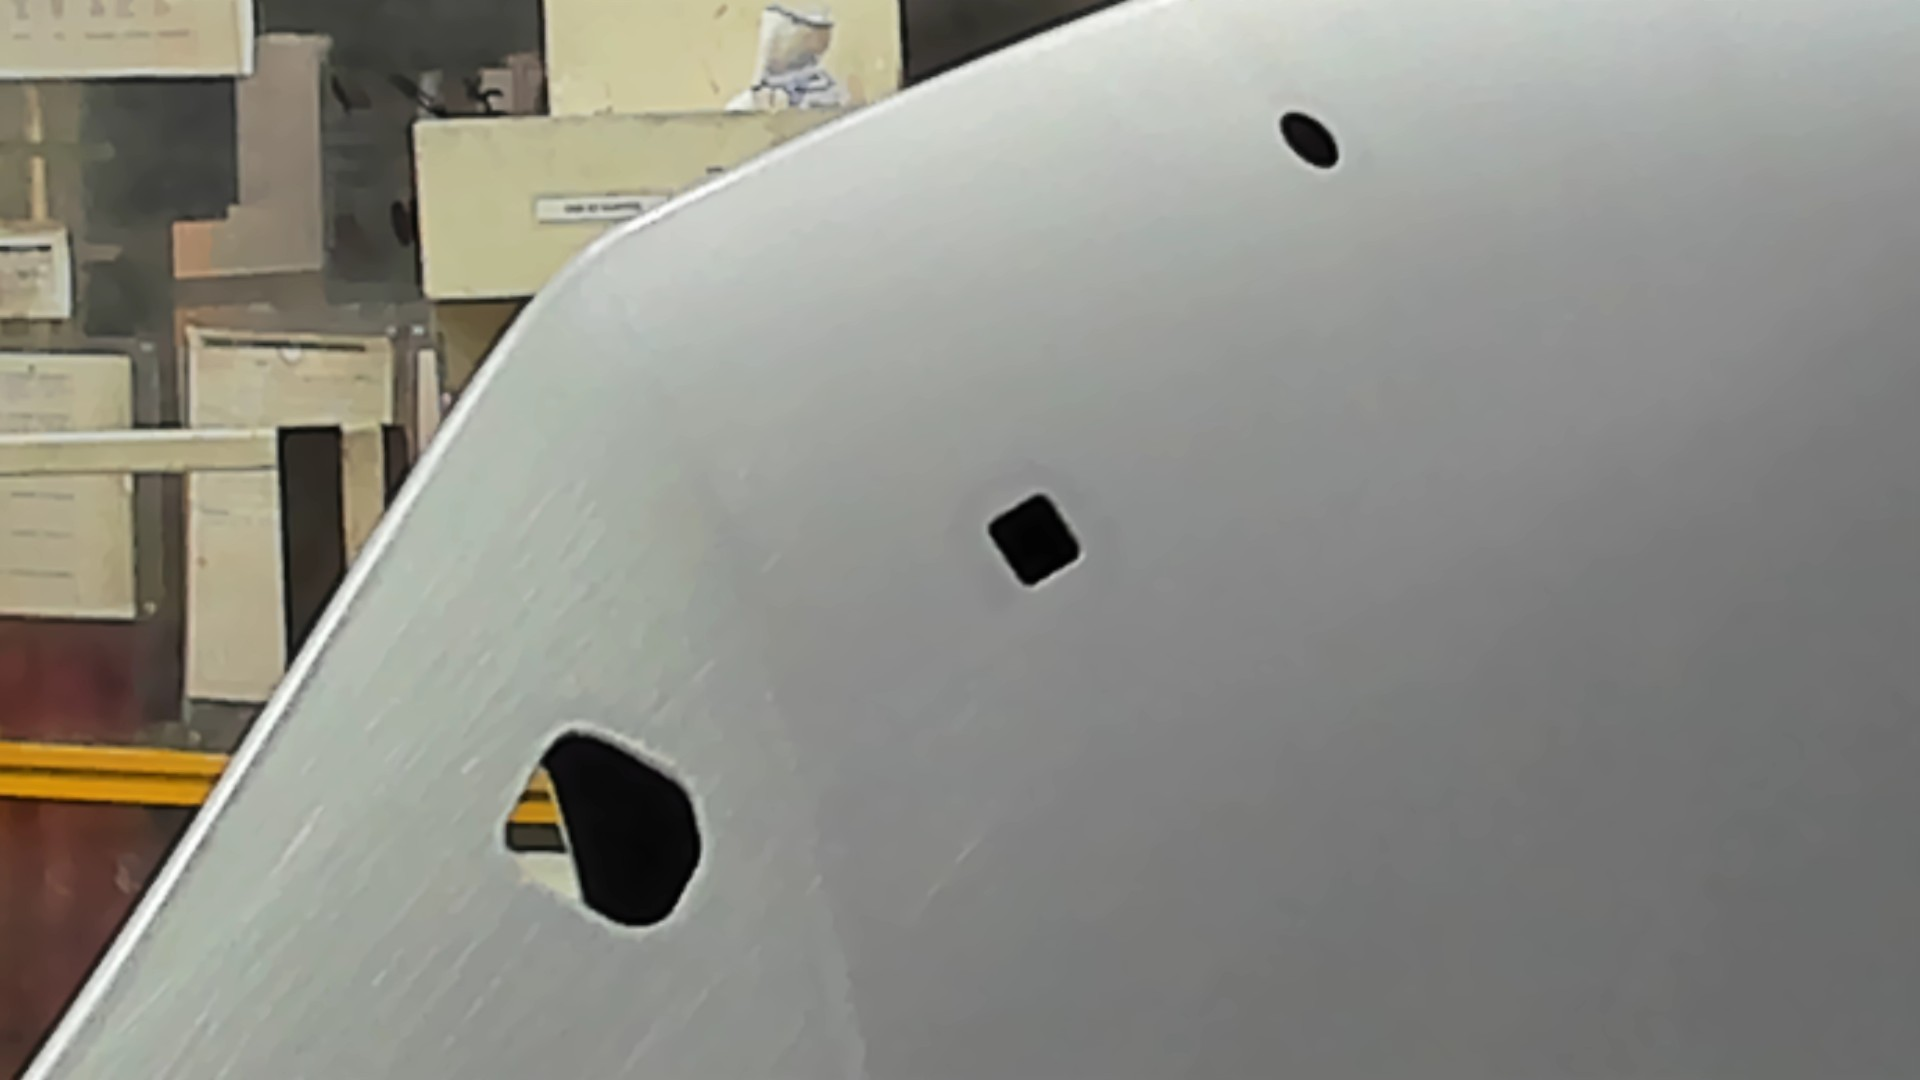chico: (1273, 105, 1345, 175)
grande: (488, 723, 709, 942)
mediano: (982, 488, 1089, 595)
